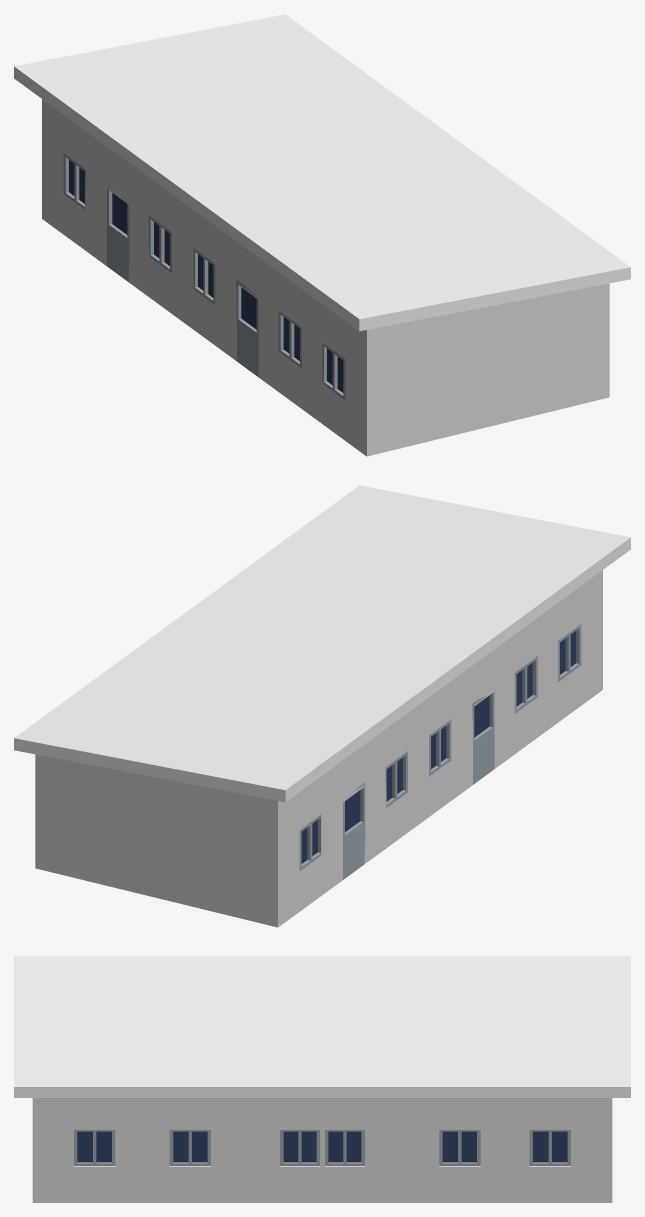
File: Building_8.fbx
3 views of the same model, one above another, from view 1: azimuth 30°, elevation 25°; view 2: azimuth 150°, elevation 25°; view 3: azimuth 270°, elevation 25° (orthographic). The views are drawn at different scales.
Parts seen in each view (by area): view 1: Building_8; view 2: Building_8; view 3: Building_8.
Part boxes in pixels (left/top/right/bottom): Building_8: left=14, top=14, right=630, bottom=456; Building_8: left=14, top=485, right=630, bottom=927; Building_8: left=14, top=956, right=630, bottom=1202.
Bounding box in the file's own units: 10.54 × 5.54 × 23.23.
